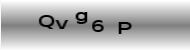6: (90, 19, 105, 32)
P: (116, 20, 132, 36)
Q: (37, 14, 55, 30)
g: (75, 10, 88, 25)
v: (54, 19, 70, 30)
